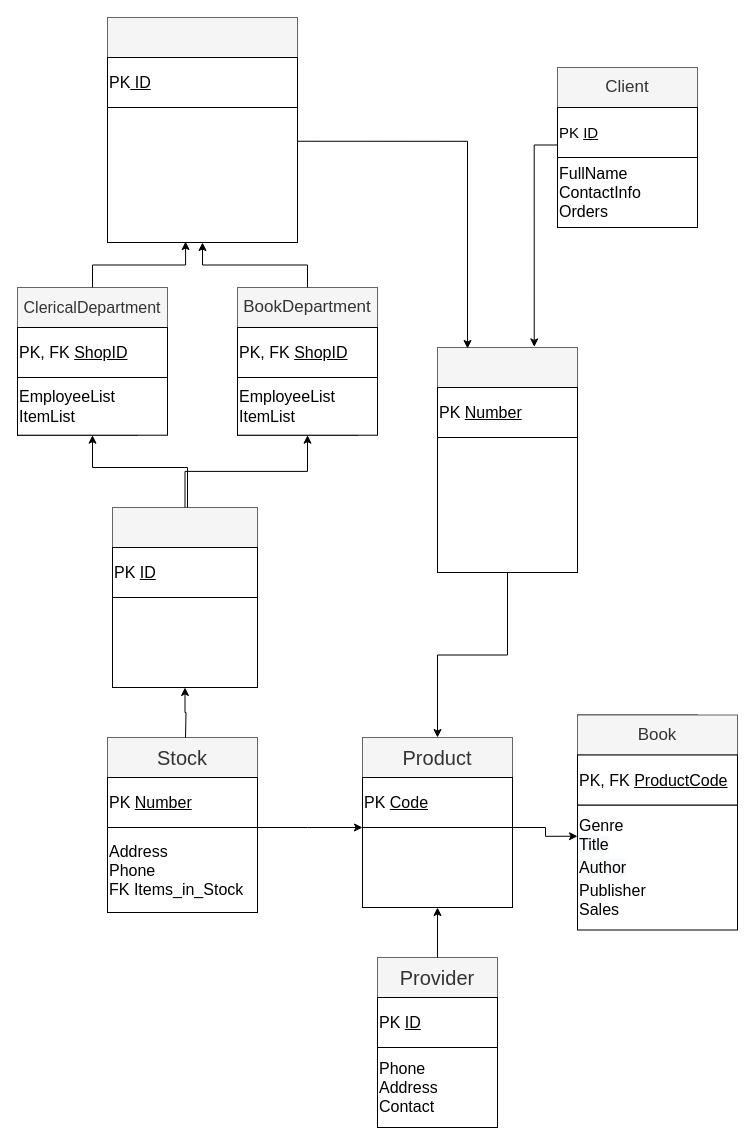
Some shapes in this 755 by 1145 pixel diagram are drawn without their labels. The centre of each missing label's shape, as x and y in pixels:
"Employee" goes at [202,37].
"Order" goes at [507,367].
"Phone Address Sales FK Stock_Number" goes at [185,642].
"Position FullName ContactInfo FK1 ClericalDepartmentID FK2 BookDepartmentID" goes at [202,174].
"Shop" goes at [185,527].
"State Check Date ItemList FK1 EmployeeID FK2 ClientID" goes at [507,504].
"Title Availability FK ProviderID" goes at [437,867].
